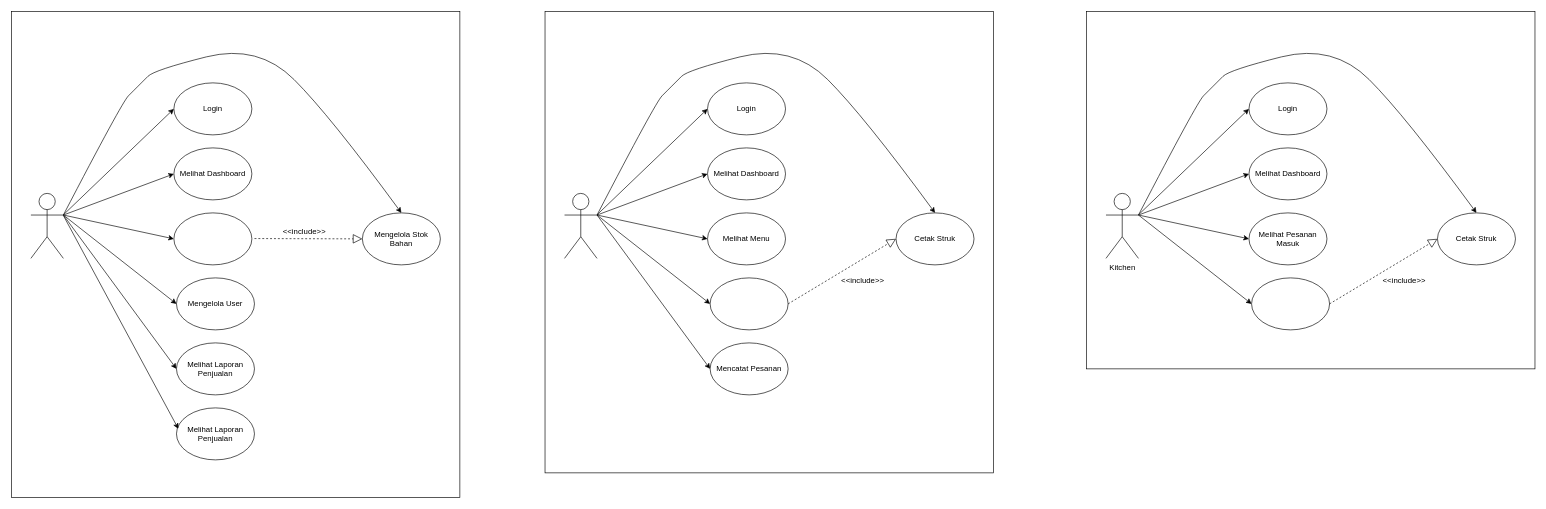
The diagram is 1546 pixels wide and 509 high, and some of its shapes have lost their labels. The box of each missing label's shape, as (x1, y1, x2, y2) in pixels:
Kasir: (564, 193, 597, 258)
Manajer: (30, 193, 63, 258)
Mengelola Menu: (173, 212, 252, 265)
Mengelola Pembayaran: (709, 277, 788, 330)
Ubah Status Pesanan: (1251, 277, 1330, 330)
